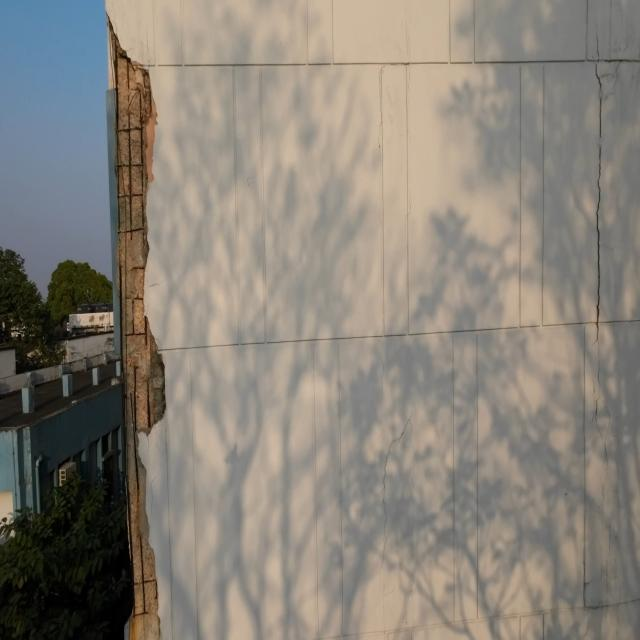Crack: (585, 31, 620, 404), (595, 399, 621, 606), (381, 415, 411, 569)
Spalling: (108, 18, 165, 639)
